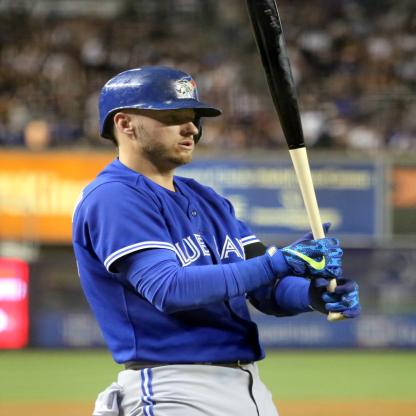Helmet: (97, 66, 218, 157)
